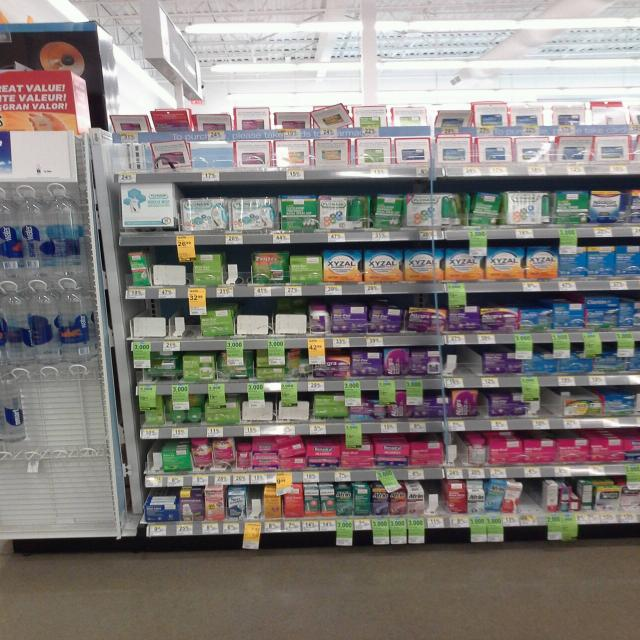empty: (131, 300, 201, 335), (149, 249, 194, 287), (233, 301, 270, 333), (446, 348, 480, 377), (223, 250, 253, 282), (517, 480, 543, 512), (538, 385, 563, 416), (423, 480, 445, 513), (141, 444, 162, 472)
